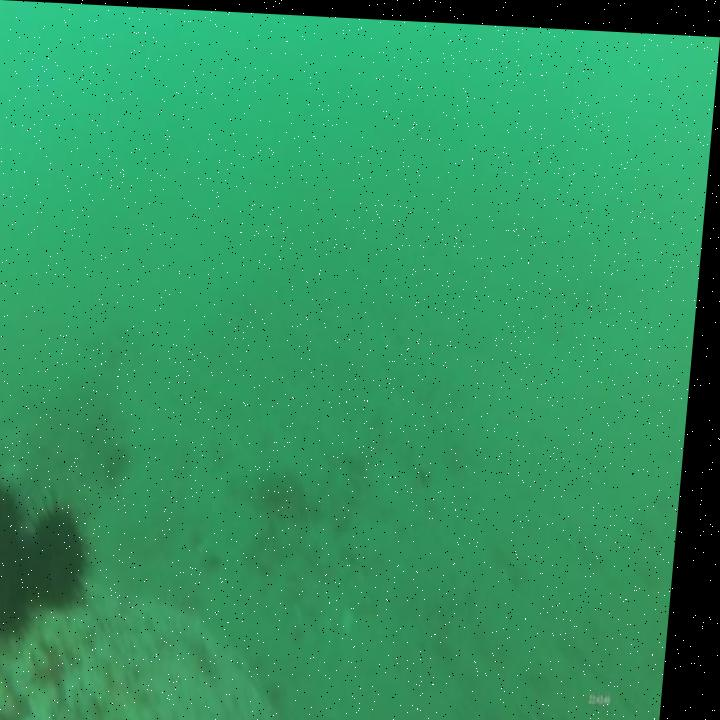echinus: (26, 486, 108, 619), (0, 522, 56, 642), (0, 468, 36, 602)
scallop: (107, 436, 140, 492)
